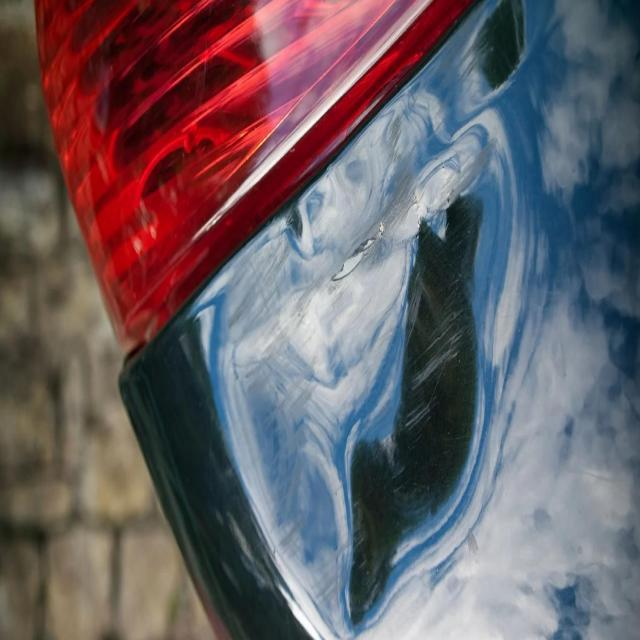dent: (175, 92, 530, 636)
